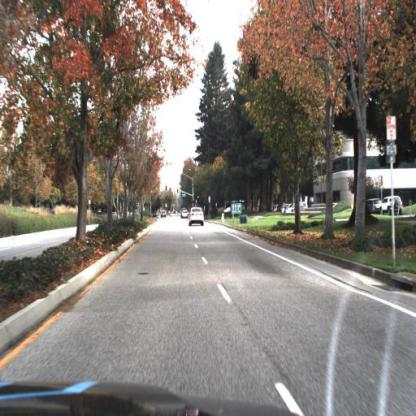car: (380, 194, 405, 217), (189, 206, 207, 229), (363, 198, 383, 213)
